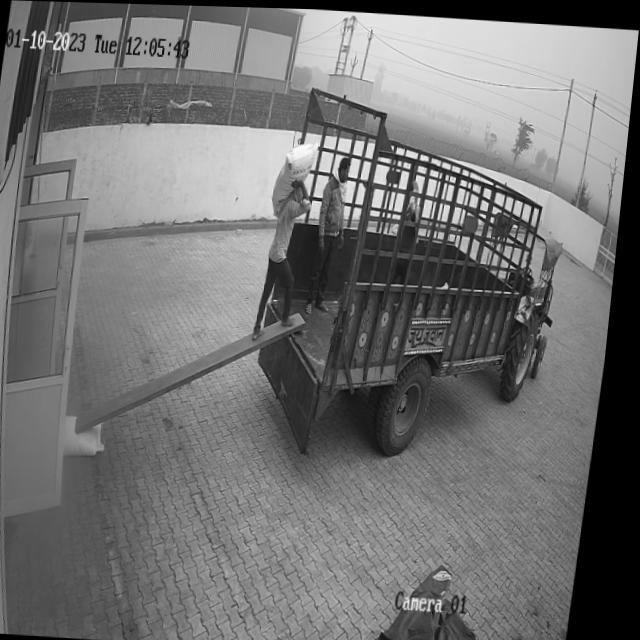sack: (274, 136, 321, 216), (72, 412, 117, 456)
